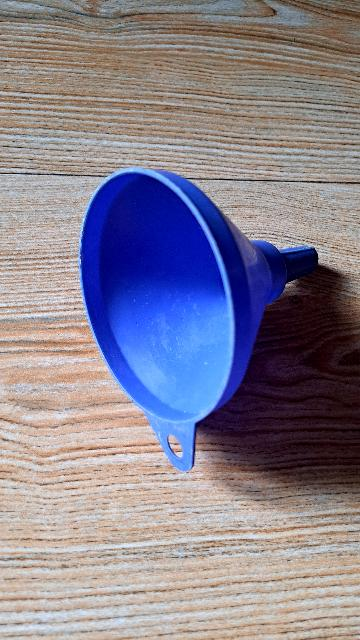hardplastic: (83, 158, 318, 456)
